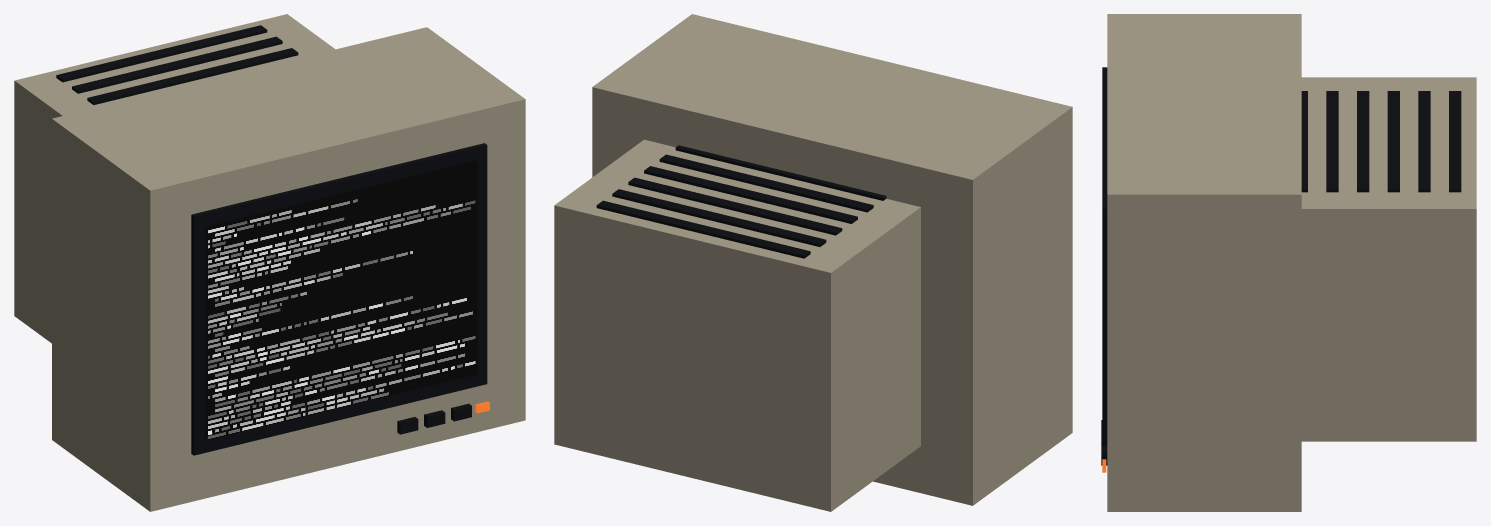
File: Tech_CRT.glb
3 views of the same model, side by side, from view 1: azimuth 30°, elevation 25°; view 2: azimuth 150°, elevation 25°; view 3: azimuth 270°, elevation 25° (orthographic). The views are drawn at different scales.
Visible parts, largest first — view 1: Tech_CRT; view 2: Tech_CRT; view 3: Tech_CRT.
Boxes of the visible parts, x1,y1,x2,y2 form: Tech_CRT: (14,14,525,511); Tech_CRT: (554,14,1072,511); Tech_CRT: (1101,14,1476,511).
Size of the model in its own units: 0.418 by 0.342 by 0.367.
Materials: 4 (1 with a texture image).
